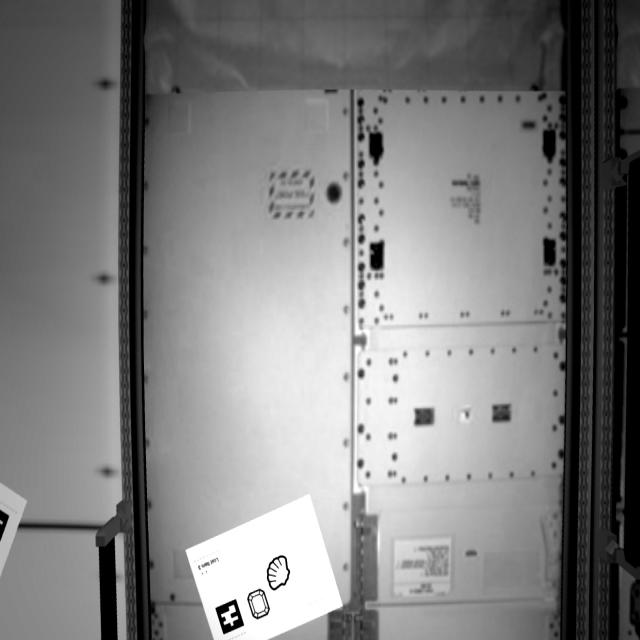emerald: (243, 586, 277, 619)
shell: (266, 554, 301, 598)
